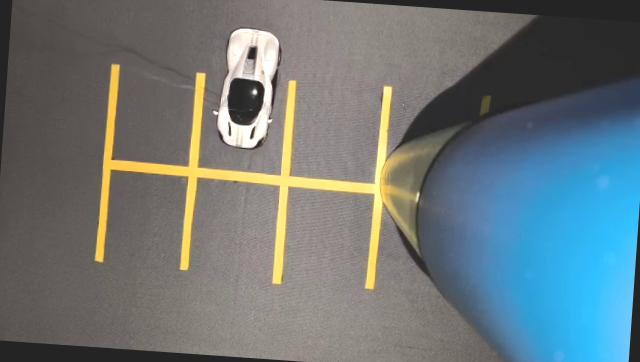toy_car: (193, 12, 312, 160)
